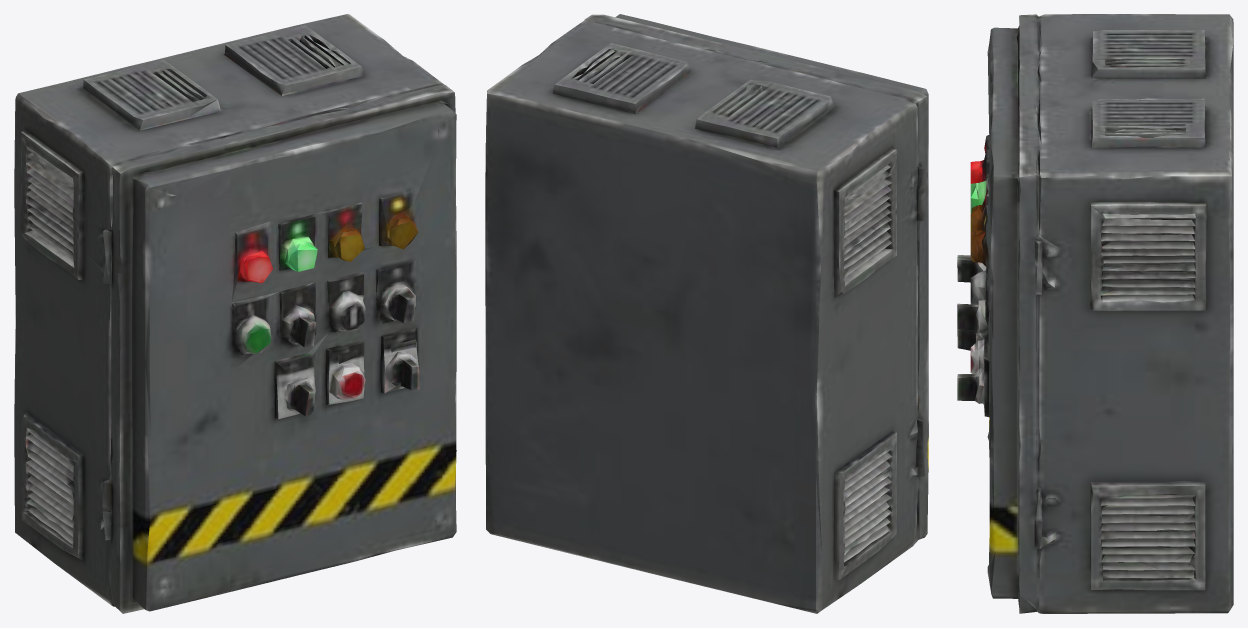
Rendered from mp_control_cabinet.glb.
The picture shows the model from 3 angles, left to right: view 1: azimuth 30°, elevation 25°; view 2: azimuth 150°, elevation 25°; view 3: azimuth 270°, elevation 25°; orthographic projection.
Visible parts, largest first — view 1: turn; view 2: turn; view 3: turn.
Part boxes in pixels (box(x1,y1,x2,y2)): turn: box(14, 14, 456, 613); turn: box(485, 14, 928, 613); turn: box(957, 14, 1233, 613).
Bounding box in the file's own units: 1.11 × 1.4 × 0.7649.
1 material, 1 textured.
